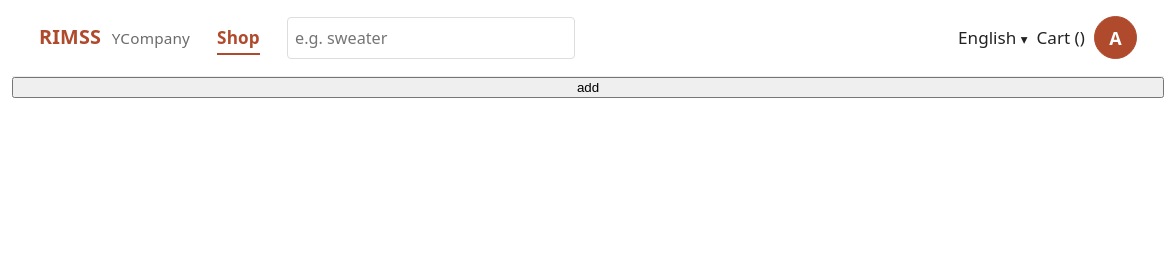
Test: Header › shows auth-only modules in the avatar menu and signs out from it
Expected: the link "Account" is not shown
Click the button named "Account menu" at (1115, 38), box [1094,16,1137,59]
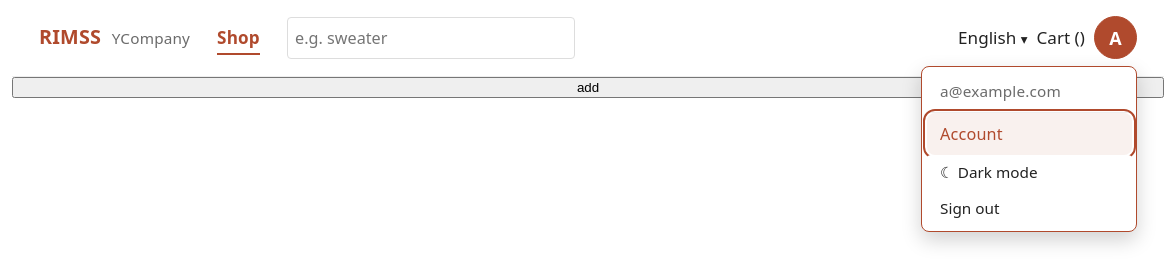
Expected: the menu item "Sign in" is not shown
Click the menu item "Sign out" at (1029, 209), box [926,191,1132,227]
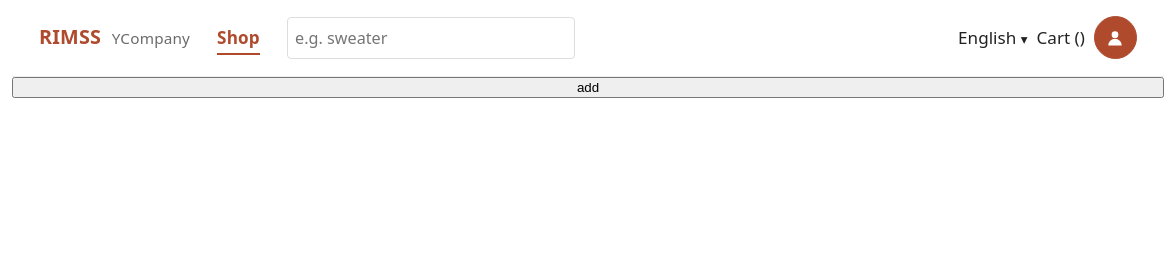
Click the button named "Account menu" at (1115, 38), box [1094,16,1137,59]
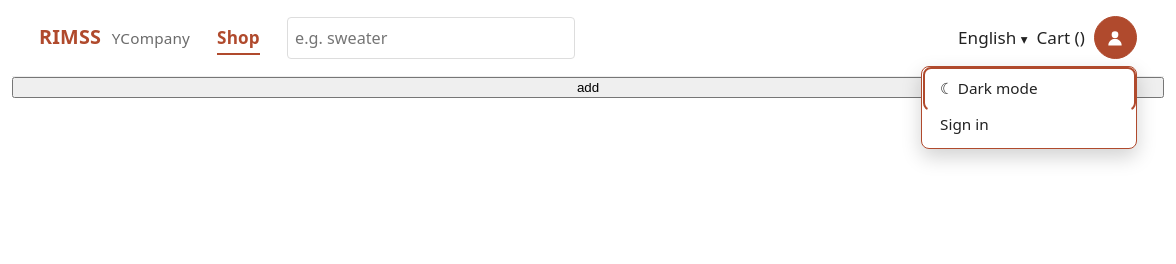
Expected: the menu item "Account" is not shown
Expected: the menu item "Sign in" is shown, [926,107,1132,143]
